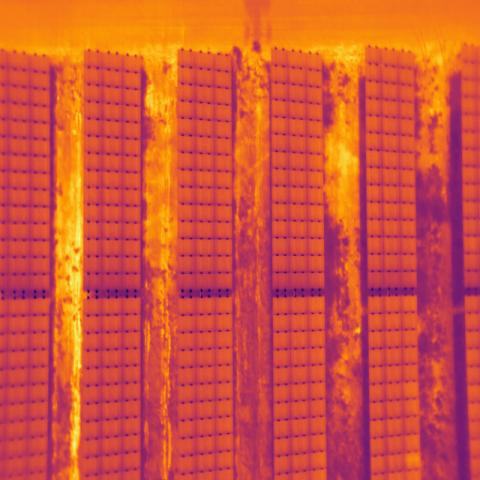fault: (404, 451, 424, 472)
